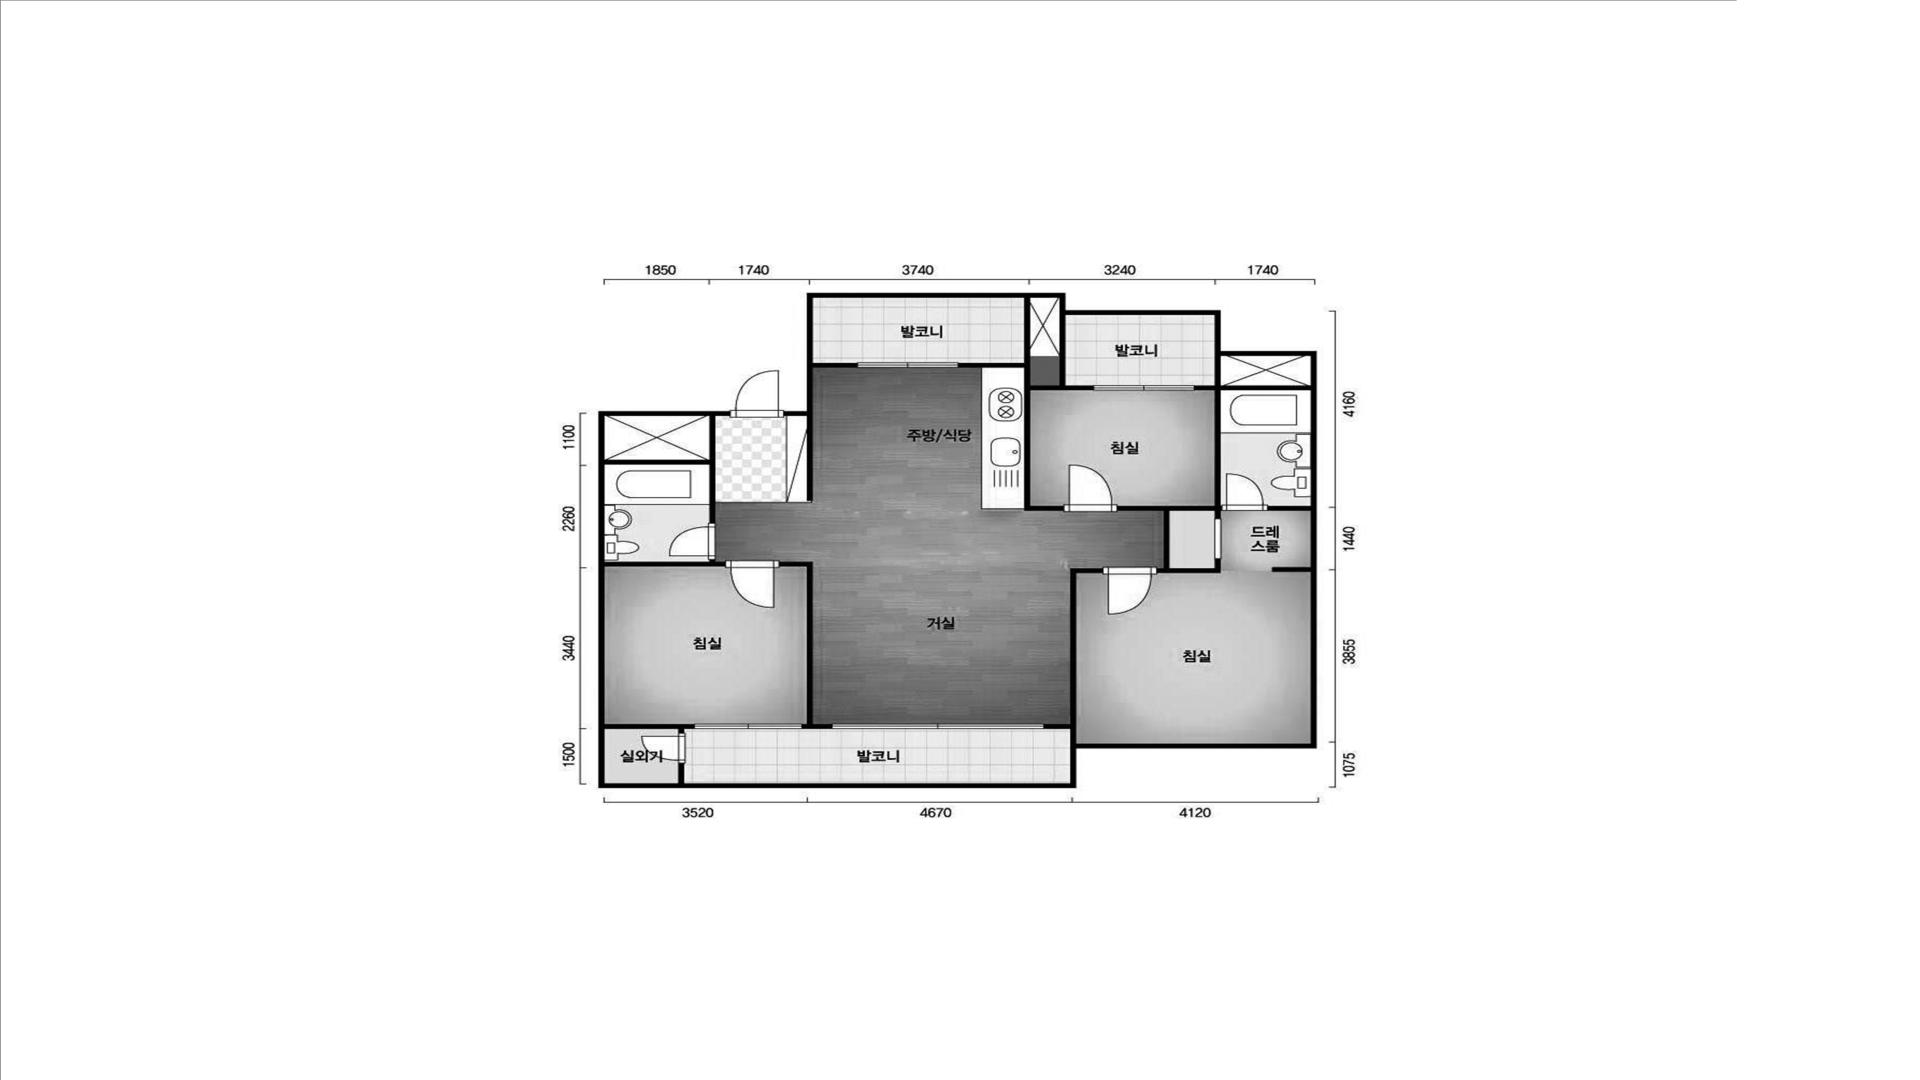door: (1102, 567, 1158, 618), (725, 560, 781, 608), (1064, 464, 1118, 512), (729, 371, 783, 417), (1221, 473, 1269, 510), (669, 524, 716, 559), (640, 733, 686, 764)
wall: (599, 293, 1317, 789), (1118, 356, 1311, 574), (957, 298, 1093, 512), (604, 417, 716, 524), (1043, 567, 1102, 744), (779, 560, 832, 729), (605, 559, 725, 567), (605, 724, 695, 733), (806, 417, 814, 501), (812, 363, 858, 368), (1267, 506, 1311, 512), (1271, 567, 1311, 572), (678, 764, 686, 783)
window: (832, 724, 1043, 729), (695, 724, 802, 729), (1093, 385, 1195, 390), (857, 363, 959, 368)
